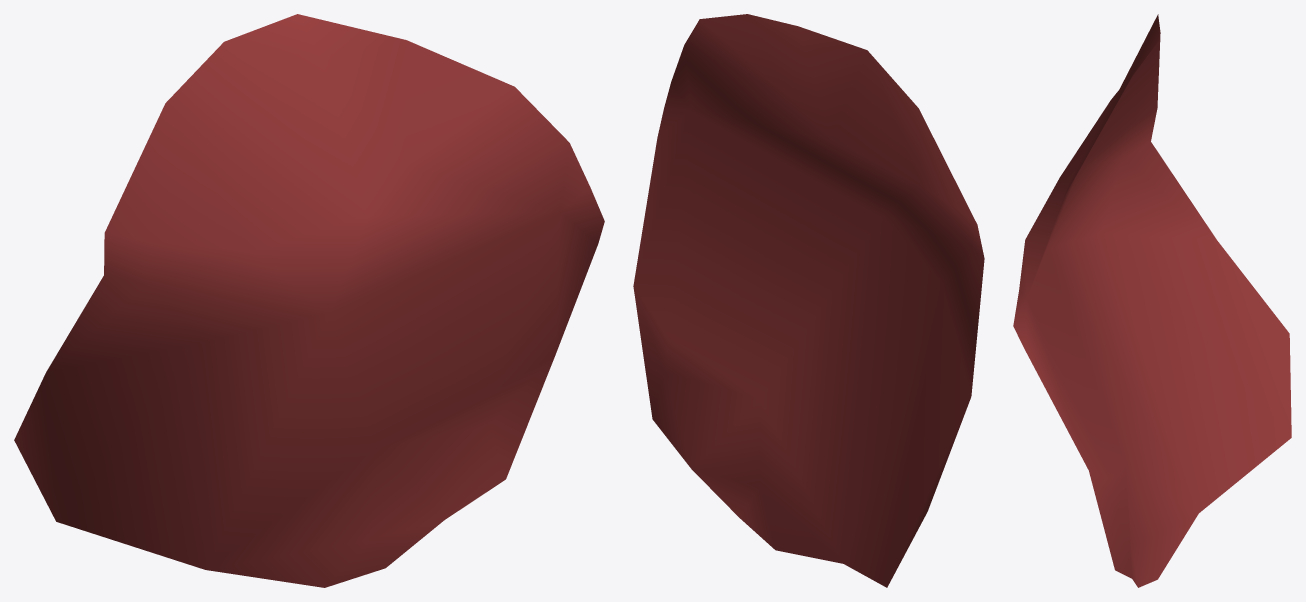
File: common-flexor-tendon-ol.glb
The picture shows the model from 3 angles, left to right: view 1: azimuth 30°, elevation 25°; view 2: azimuth 150°, elevation 25°; view 3: azimuth 270°, elevation 25°; orthographic projection. The views are drawn at different scales.
Parts seen in each view (by area): view 1: Common flexor tendon.ol; view 2: Common flexor tendon.ol; view 3: Common flexor tendon.ol.
Boxes of the visible parts, box(x1,y1,x2,y2) form: Common flexor tendon.ol: box(14, 14, 604, 587); Common flexor tendon.ol: box(633, 14, 984, 587); Common flexor tendon.ol: box(1013, 14, 1291, 587).
Bounding box in the file's own units: 0.0132 × 0.0163 × 0.00777.
